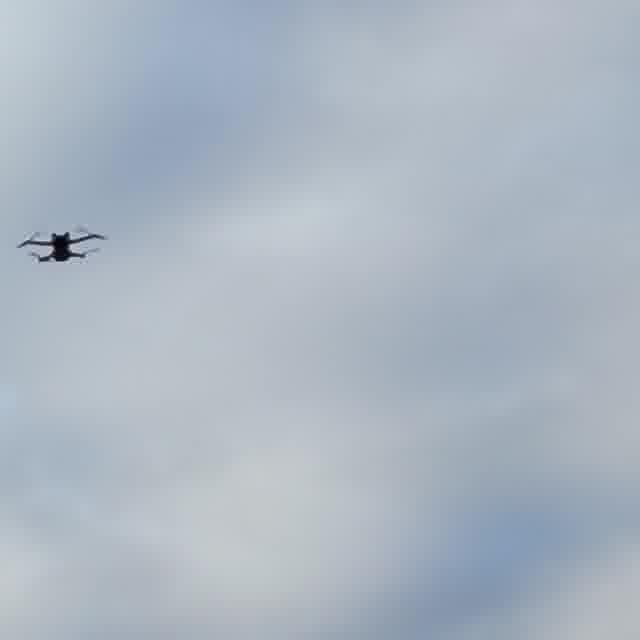Drohne: (17, 232, 106, 262)
